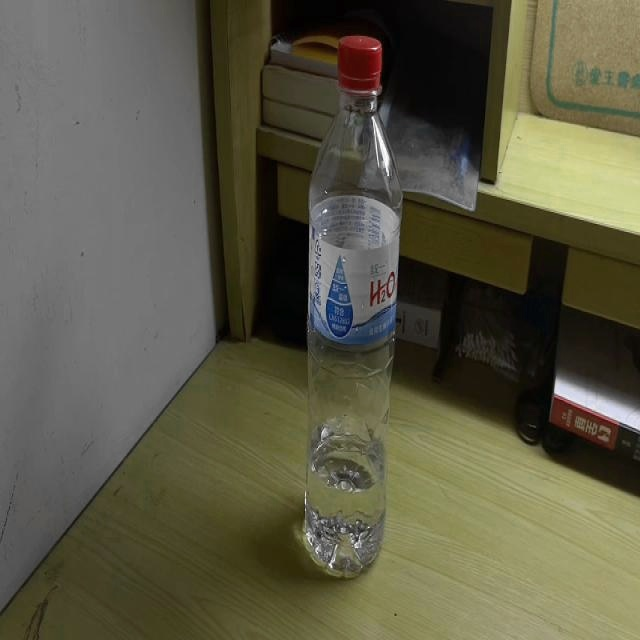Water: (304, 36, 404, 578)
